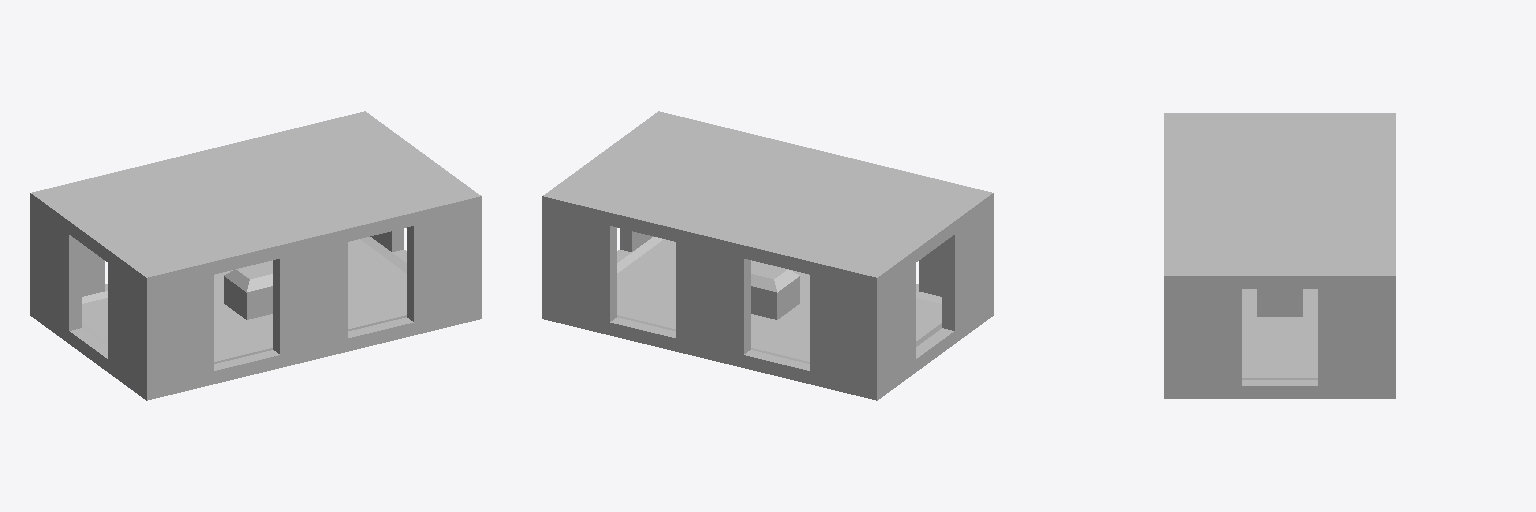
The model's file is level3_room_long.obj.
3 views of the same model, side by side, from view 1: azimuth 30°, elevation 25°; view 2: azimuth 150°, elevation 25°; view 3: azimuth 270°, elevation 25° (orthographic).
Parts seen in each view (by area): view 1: Room_Long_Cube.002; view 2: Room_Long_Cube.002; view 3: Room_Long_Cube.002.
Part boxes in pixels (x1,y1,x2,y2): Room_Long_Cube.002: (30,111,481,400); Room_Long_Cube.002: (542,111,993,400); Room_Long_Cube.002: (1164,113,1395,398).
Size of the model in its own units: 26.63 by 9.34 by 16.